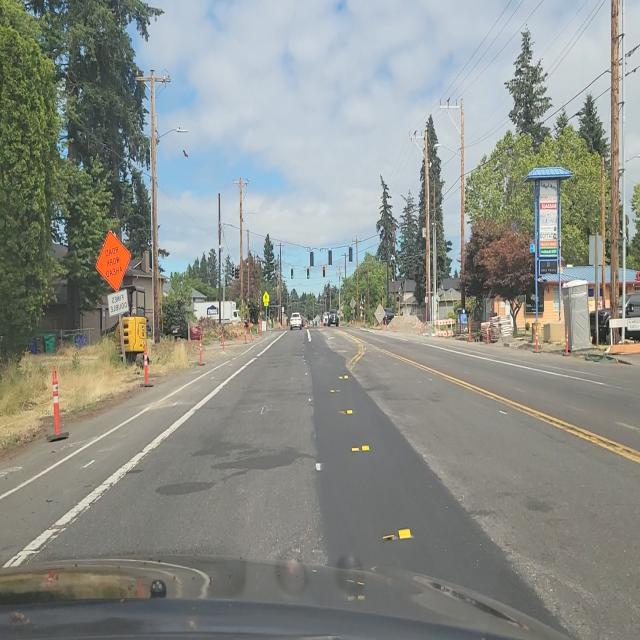car: (589, 296, 640, 344), (169, 324, 188, 341), (290, 312, 302, 331), (328, 309, 340, 327)
crosswalk-sign: (263, 292, 269, 306)
delineator: (51, 366, 62, 436), (141, 347, 153, 388), (198, 336, 204, 366), (220, 328, 226, 354), (534, 326, 540, 352), (564, 327, 569, 355), (244, 324, 248, 344), (249, 322, 253, 340), (236, 324, 240, 340), (486, 323, 489, 344), (468, 321, 471, 342), (393, 320, 397, 332), (258, 320, 261, 336), (384, 319, 388, 330), (446, 328, 450, 338)
